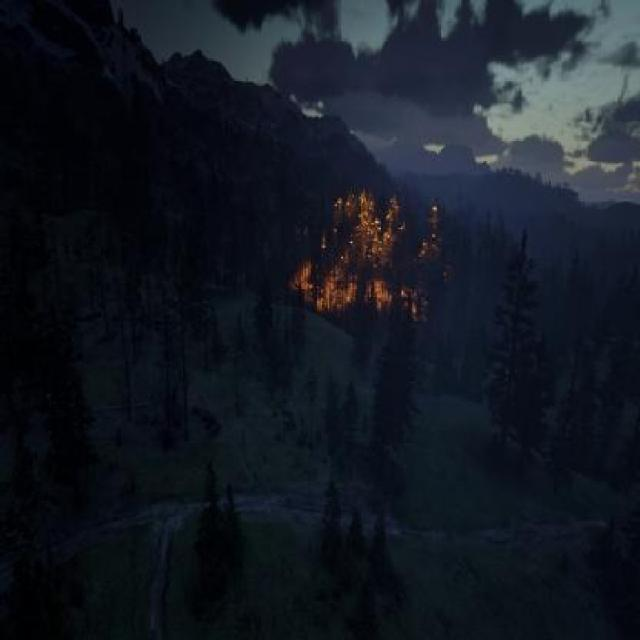Fire: (282, 170, 430, 337)
